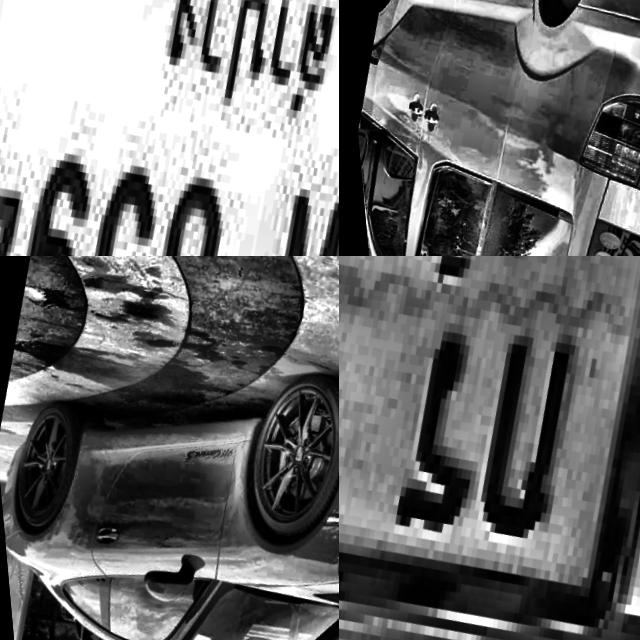license-plate: (339, 256, 640, 640), (0, 0, 339, 256)
